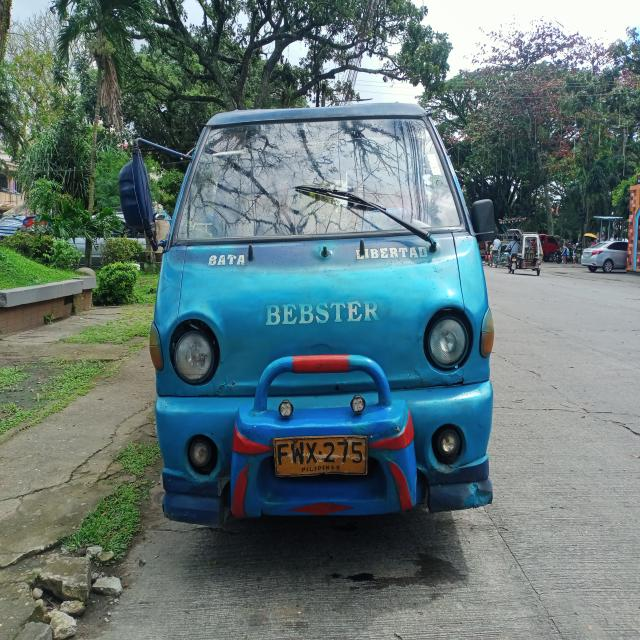plate: (272, 433, 370, 479)
